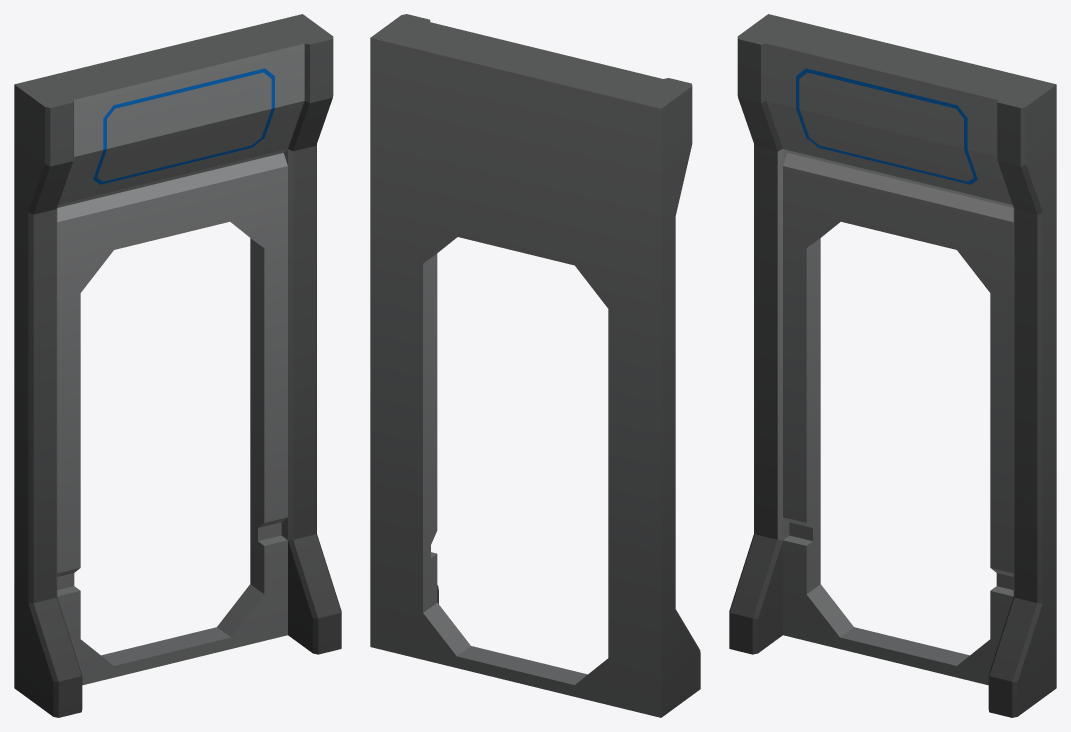
The model's file is Wall_type_B_057.fbx.
The picture shows the model from 3 angles, left to right: view 1: azimuth 30°, elevation 25°; view 2: azimuth 150°, elevation 25°; view 3: azimuth 330°, elevation 25°; orthographic projection.
Parts seen in each view (by area): view 1: Wall_type_B_057; view 2: Wall_type_B_057; view 3: Wall_type_B_057.
Part boxes in pixels (box(x1,y1,x2,y2)): Wall_type_B_057: box(14, 14, 341, 717); Wall_type_B_057: box(370, 14, 700, 717); Wall_type_B_057: box(729, 14, 1056, 717).
Size of the model in its own units: 200 by 50 by 400.
